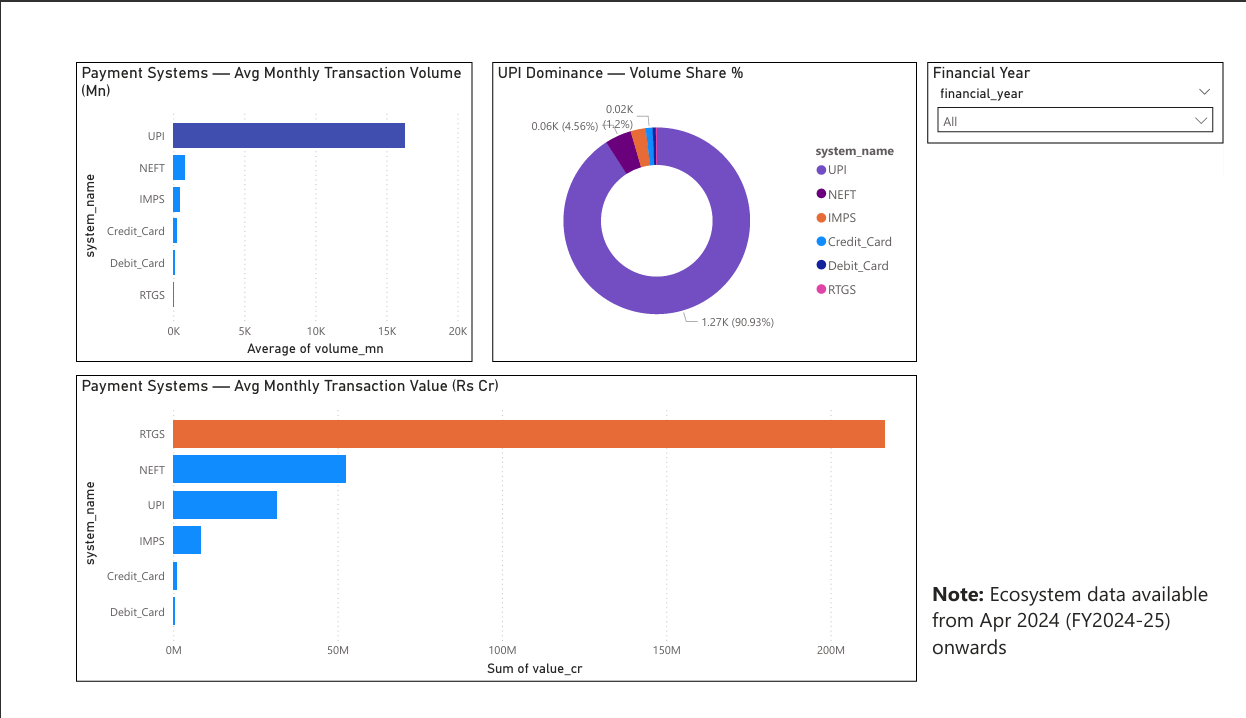

The page's visual inventory and layout, read from the dashboard file:
{"tool":"powerbi","page":{"name":"Ecosystem","canvas":[1280,720],"ordinal":1},"visuals":[{"type":"clusteredBarChart","title":"Payment Systems — Avg Monthly Transaction Volume (Mn)","fields":{"Category":["public dim_payment_system.system_name"],"Y":["Avg(public fact_payment_systems.volume_mn)"]},"box":[55.6,40.2,423.2,319.7],"z":0},{"type":"donutChart","title":"UPI Dominance — Volume Share %","fields":{"Category":["public dim_payment_system.system_name"],"Y":["Sum(public fact_payment_systems.share_of_volume_pct)"]},"box":[500.4,40.2,452.5,319.7],"z":1000},{"type":"clusteredBarChart","title":"Payment Systems — Avg Monthly Transaction Value (Rs Cr)","fields":{"Category":["public dim_payment_system.system_name"],"Y":["Sum(public fact_payment_systems.value_cr)"]},"box":[55.6,373.7,897.3,327.4],"z":2000},{"type":"slicer","title":"Financial Year","fields":{"Values":["public dim_date.financial_year"]},"box":[963.7,40.2,316.6,86.5],"z":3000},{"type":"textbox","box":[963.7,586.9,316.6,101.9],"z":4000}]}

Visuals, with their boxes in screenshot pixels (x1, y1, x2, y2), scaled from the page's 1280x720 canvas onto the 1246x718 screenshot:
"Payment Systems — Avg Monthly Transaction Volume (Mn)" clusteredBarChart: BBox(54, 40, 466, 359)
"UPI Dominance — Volume Share %" donutChart: BBox(487, 40, 928, 359)
"Payment Systems — Avg Monthly Transaction Value (Rs Cr)" clusteredBarChart: BBox(54, 373, 928, 699)
"Financial Year" slicer: BBox(938, 40, 1245, 126)
textbox: BBox(938, 585, 1245, 687)
